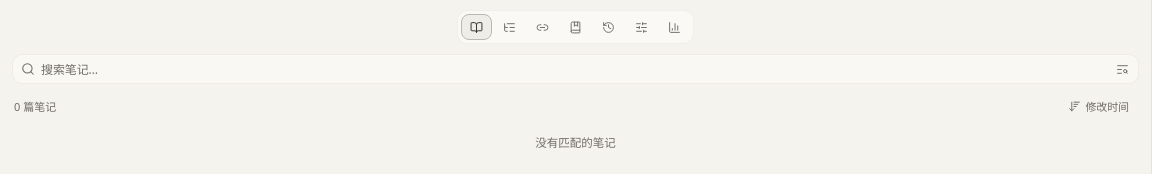
Test: the document panels the mode switch adds to the column › offers every mode in the switch, each still named for the user
The width and height of the screenshot is (1152, 191).
# And the last of them reaches its own mode.
Click the 4th tab with class "nl-mode-btn".
click(576, 27)  # box top-left (560, 14), bottom-right (591, 40)
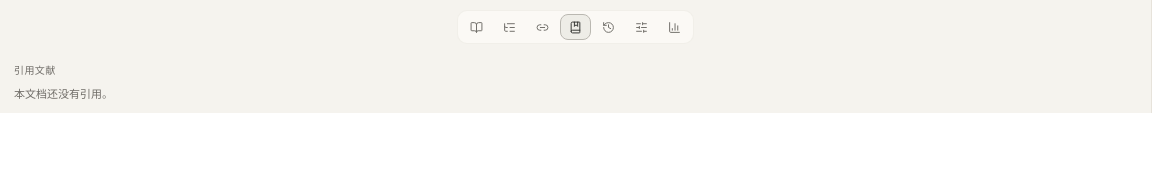
Check: the element with class "references-panel" is shown, box top-left (14, 63), bottom-right (113, 101)
